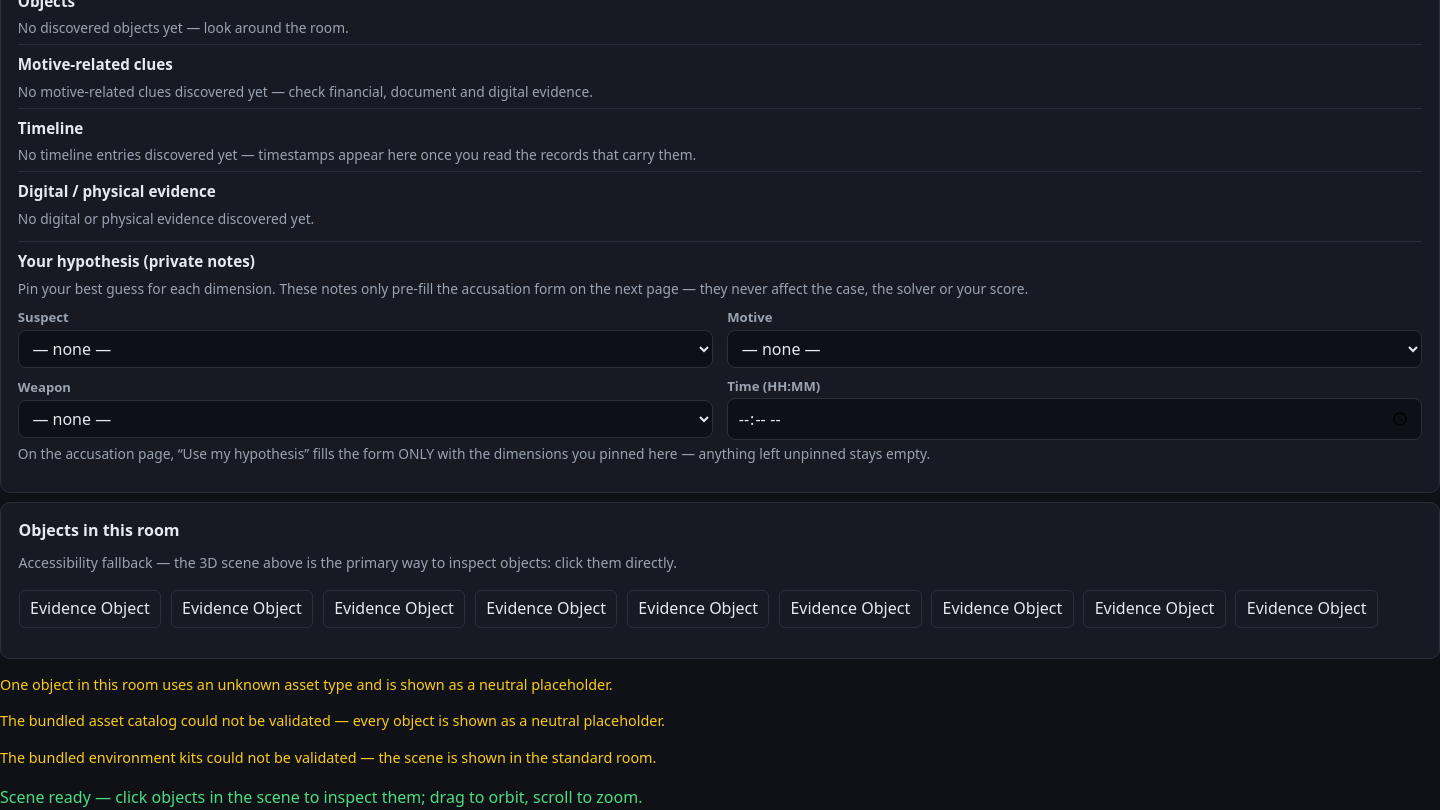
Test: Phase 47 — selecting the victim opens the investigation record › shows identity IMMEDIATELY on selection and suppresses the generic evidence panel
(page scrolled)
Click the 9th button "Evidence Object".
click(1307, 609)  # box [1235,590,1378,628]
(page scrolled)
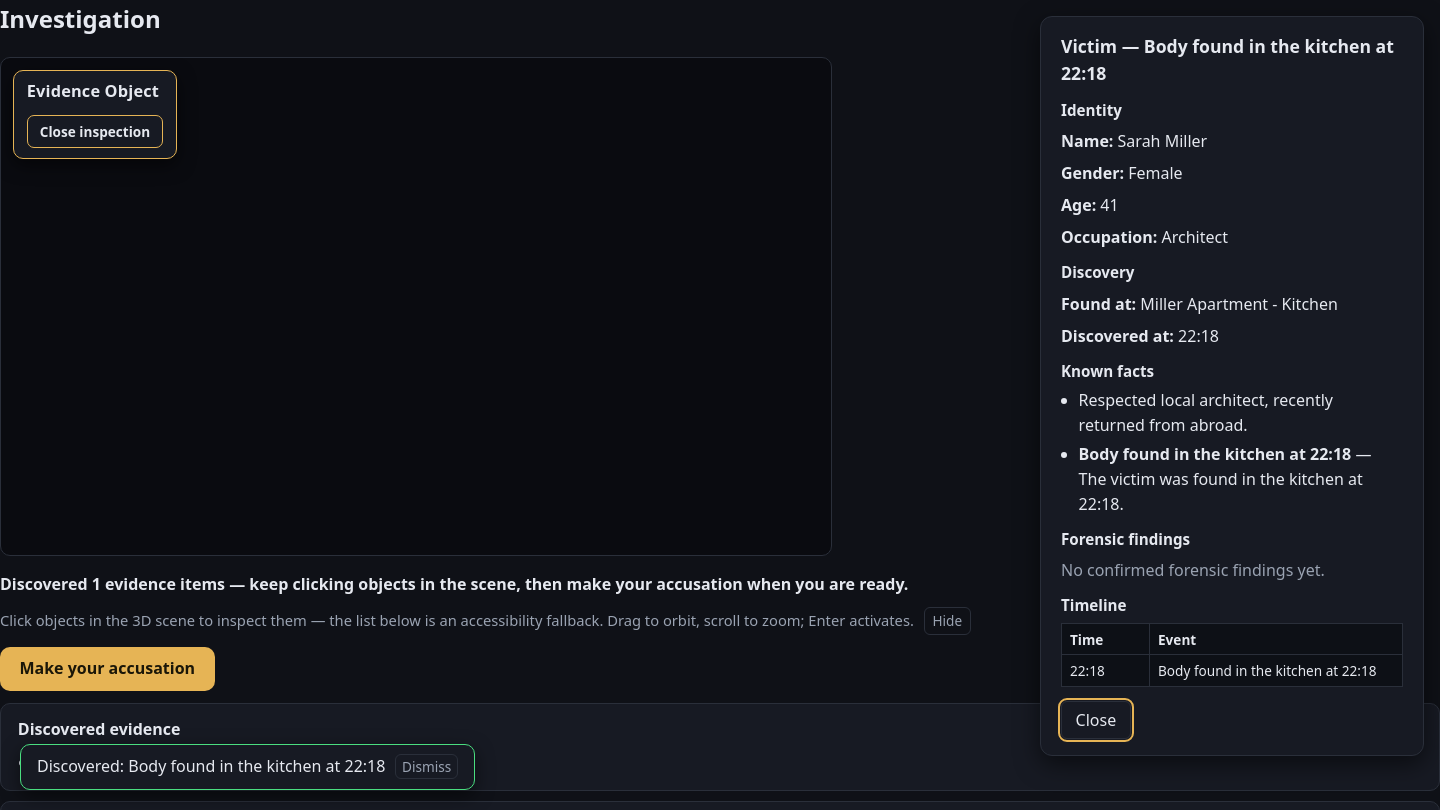
Check: the heading with test id "victim-panel-title" reads "Victim — Body found in the kitchen at 22:18", box [1061,34,1394,85]
Check: the element with test id "victim-identity-name" shows "Sarah Miller", box [1118,130,1207,152]
Check: the element with test id "victim-discovery-location" shows "Miller Apartment - Kitchen", box [1140,293,1338,315]
